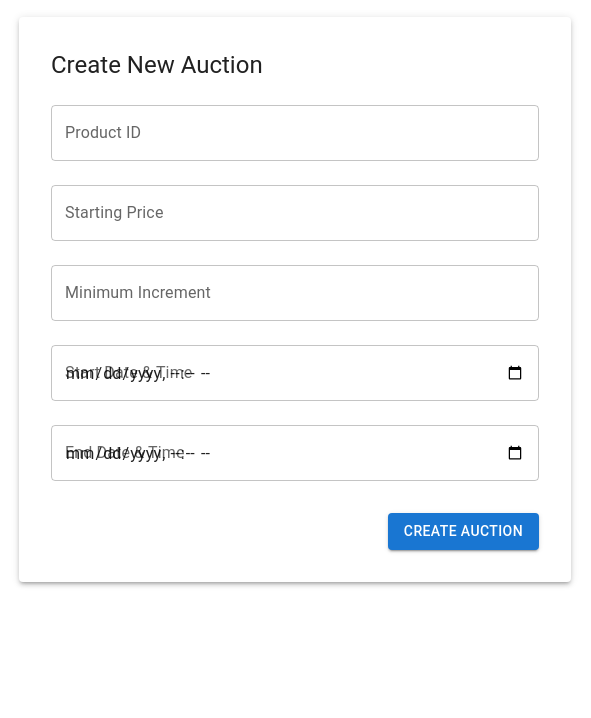
Test: CreateAuction Component › shows validation errors when submitting empty form
What coordinates should you click on to do the following:
click the button "Create Auction"
I would click on:
 (463, 532)
Its box is [388, 513, 539, 550].
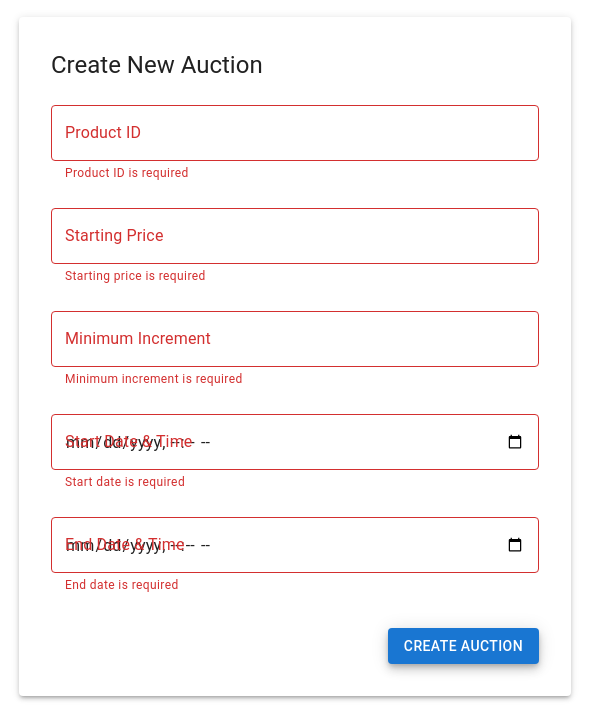
Check: the text "Product ID is required" is shown, box [65, 166, 189, 180]
Check: the text "Starting price is required" is shown, box [65, 269, 206, 283]
Check: the text "Minimum increment is required" is shown, box [65, 372, 243, 386]
